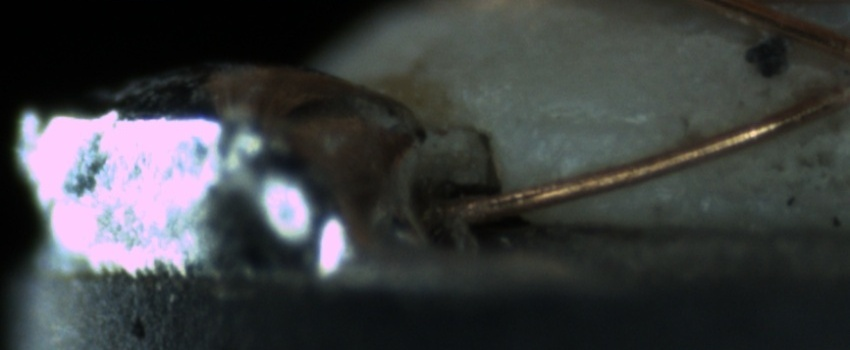DL: (530, 96, 676, 158)
